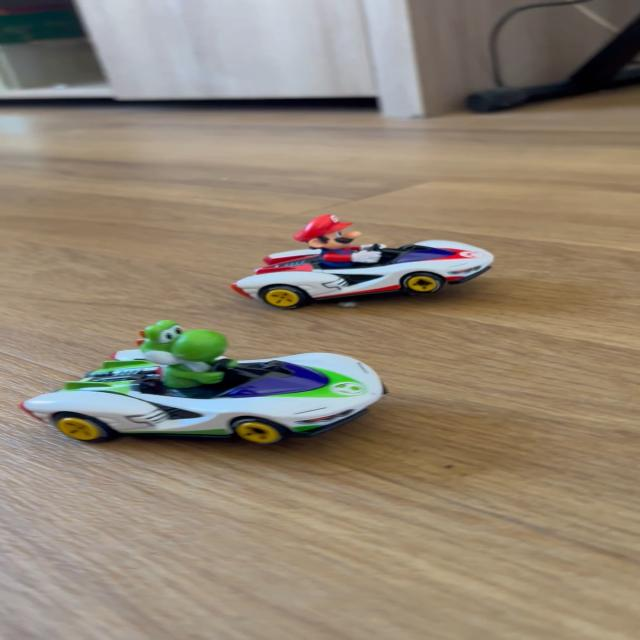mario: (225, 214, 504, 311)
yoshi: (17, 315, 395, 453)
